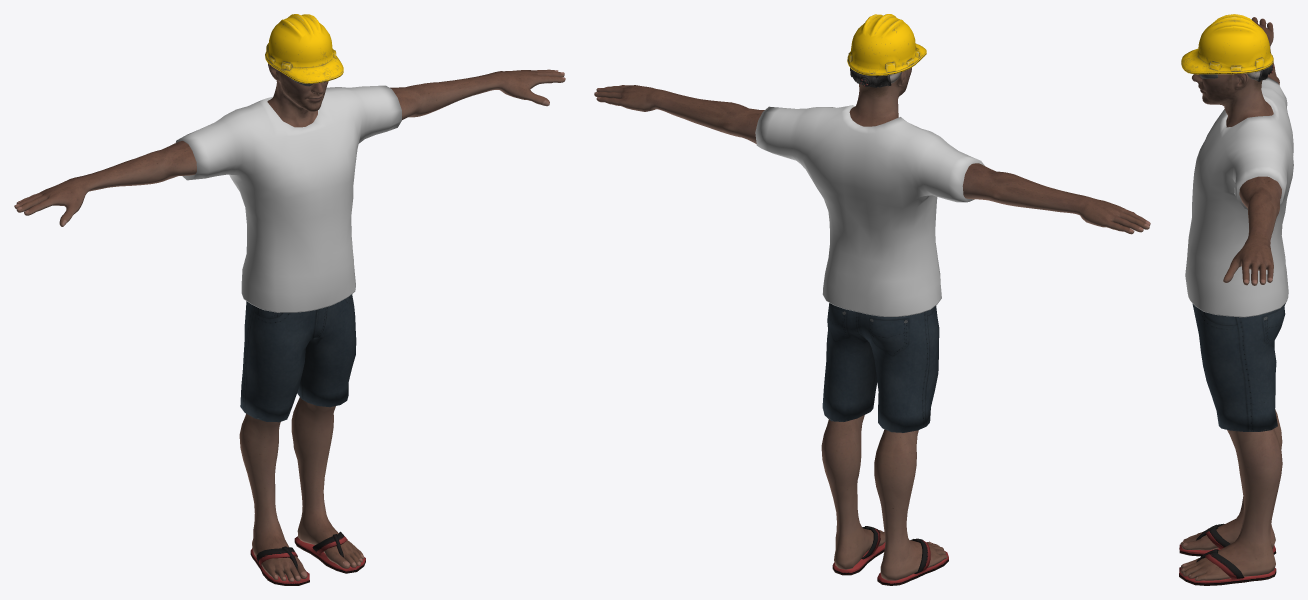
The model's file is Basic.obj.
3 renders of one model, left to right at view 1: azimuth 30°, elevation 25°; view 2: azimuth 150°, elevation 25°; view 3: azimuth 270°, elevation 25°, orthographic.
Visible parts, largest first — view 1: Tops, Body, Bottoms, Hats, Shoes; view 2: Tops, Body, Bottoms, Hats, Shoes; view 3: Tops, Body, Bottoms, Hats, Shoes.
Part boxes in pixels (left/top/right/bottom): Tops: left=175, top=85, right=401, bottom=312; Body: left=14, top=63, right=565, bottom=581; Bottoms: left=240, top=294, right=356, bottom=422; Hats: left=265, top=14, right=343, bottom=83; Shoes: left=250, top=531, right=365, bottom=585; Tops: left=755, top=105, right=984, bottom=316; Body: left=594, top=67, right=1150, bottom=580; Bottoms: left=822, top=303, right=939, bottom=432; Hats: left=847, top=14, right=926, bottom=87; Shoes: left=832, top=526, right=948, bottom=585; Tops: left=1185, top=77, right=1293, bottom=317; Body: left=1180, top=17, right=1282, bottom=580; Bottoms: left=1192, top=303, right=1285, bottom=431; Hats: left=1181, top=14, right=1273, bottom=81; Shoes: left=1179, top=523, right=1276, bottom=585.
Size of the model in its own units: 194 by 184 by 35.08.
